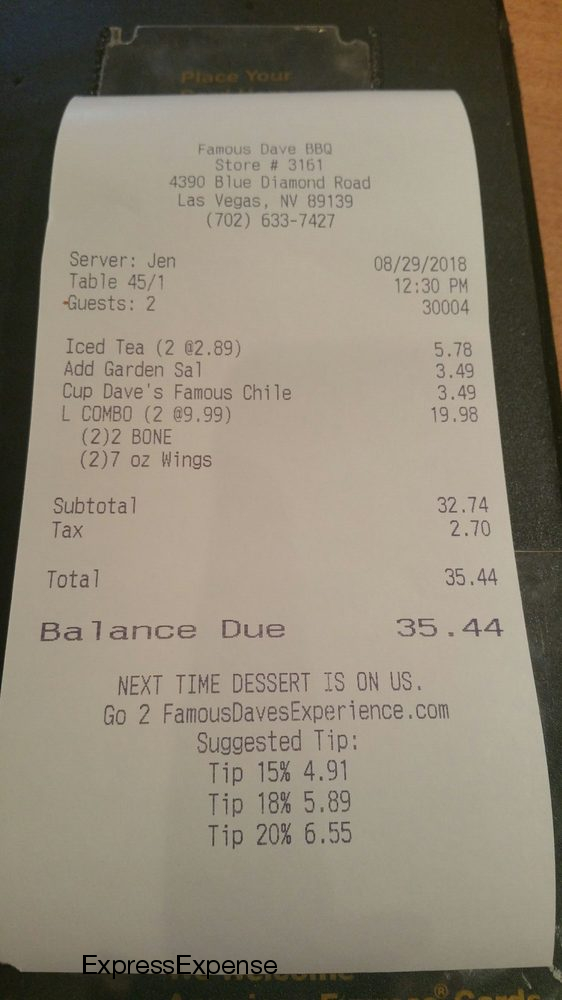Additional details: (6, 657, 541, 940)
Purchase summary: (38, 234, 515, 663)
Receipt: (4, 87, 549, 964)
Shop details: (107, 128, 425, 240)
